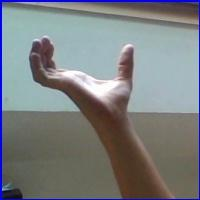B: (24, 32, 147, 123)
